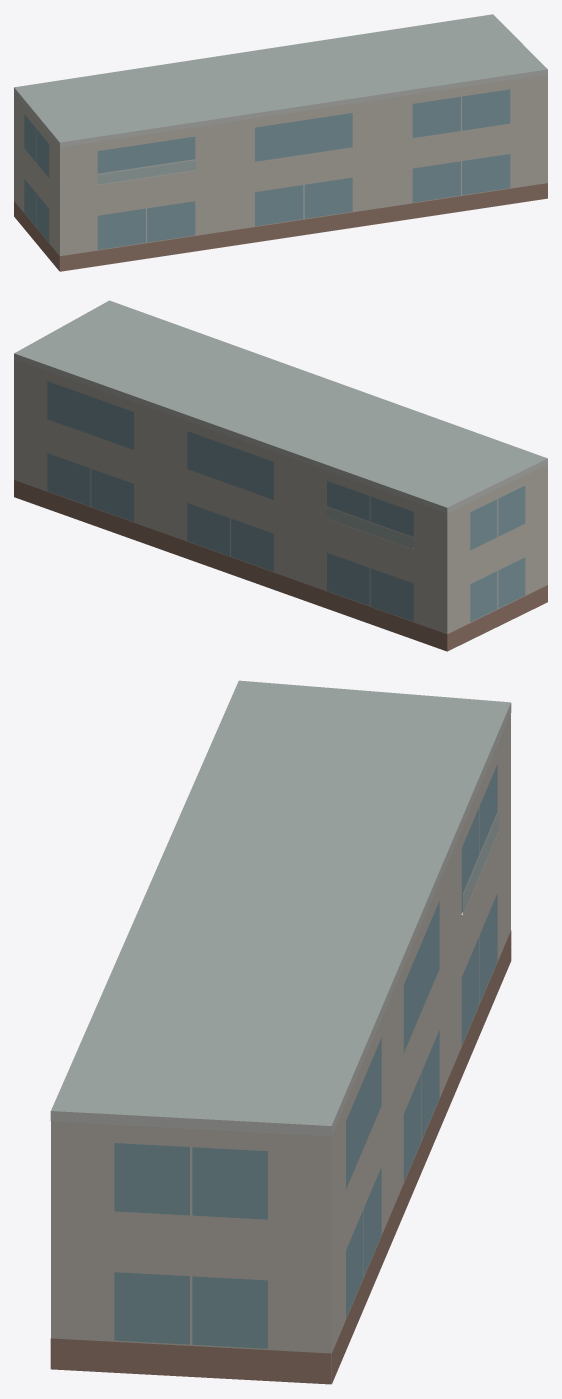
Rendered from survey-upis-32968063.glb.
3 views of the same model, one above another, from view 1: azimuth 30°, elevation 25°; view 2: azimuth 150°, elevation 25°; view 3: azimuth 270°, elevation 25° (orthographic). The views are drawn at different scales.
Parts seen in each view (by area): view 1: survey-upis-32968063.tmp; view 2: survey-upis-32968063.tmp; view 3: survey-upis-32968063.tmp.
Boxes of the visible parts, x1=… form: survey-upis-32968063.tmp: x1=14, y1=14, x2=547, y2=271; survey-upis-32968063.tmp: x1=14, y1=300, x2=547, y2=651; survey-upis-32968063.tmp: x1=50, y1=680, x2=511, y2=1384.
Bounding box in the file's own units: 22.57 × 6.1 × 9.86.
